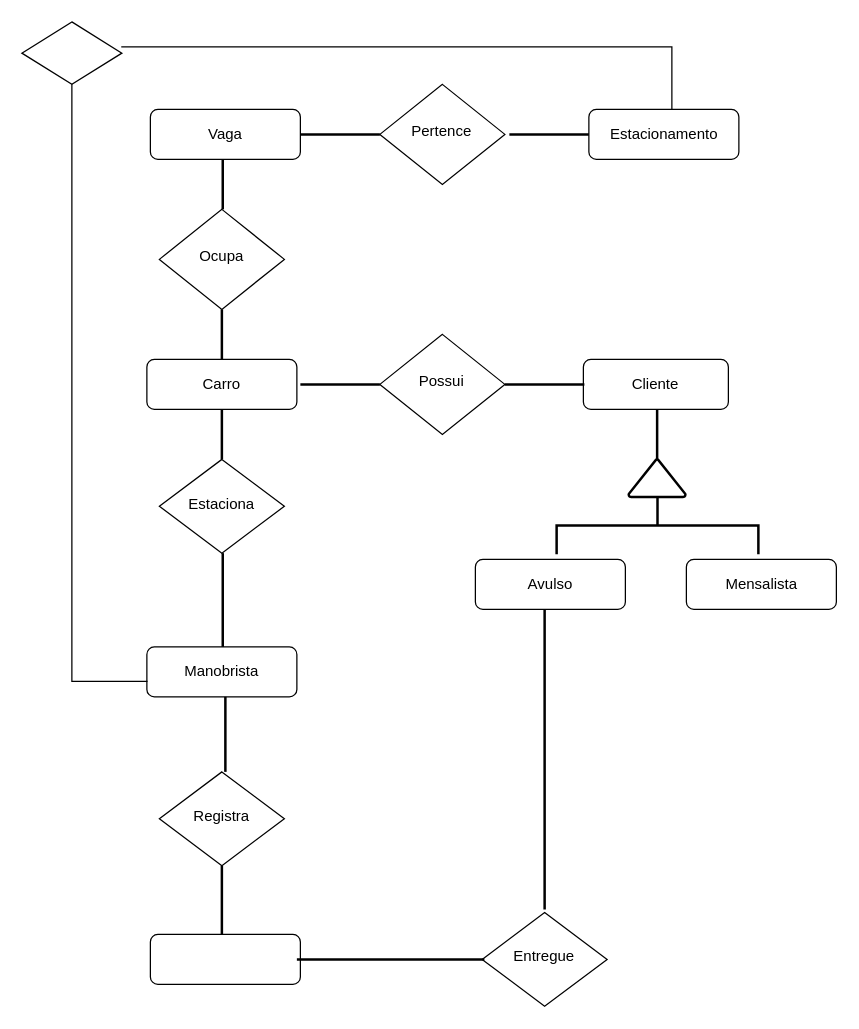
Some shapes in this 859 by 1029 pixel diagram are drawn without their labels. Each missing label, with the centre of its shape:
"Comprovante Avulso" goes at pixel 224 958.
"Trabalha" goes at pixel 71 52.
